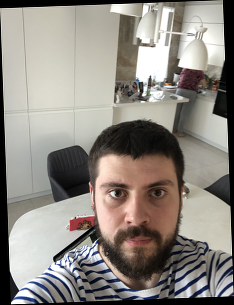without_mask: (98, 170, 181, 281)
